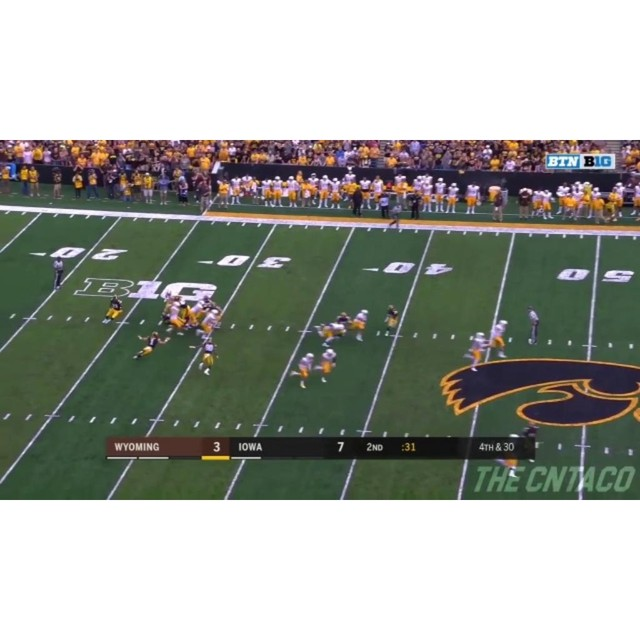american-football-player: (132, 331, 169, 360), (464, 332, 489, 371), (486, 319, 509, 361), (289, 352, 315, 389), (198, 337, 219, 377), (318, 345, 338, 384), (199, 308, 220, 342), (102, 295, 123, 325), (351, 309, 369, 343), (384, 304, 399, 337)
referee: (526, 304, 541, 344), (52, 255, 65, 290)
